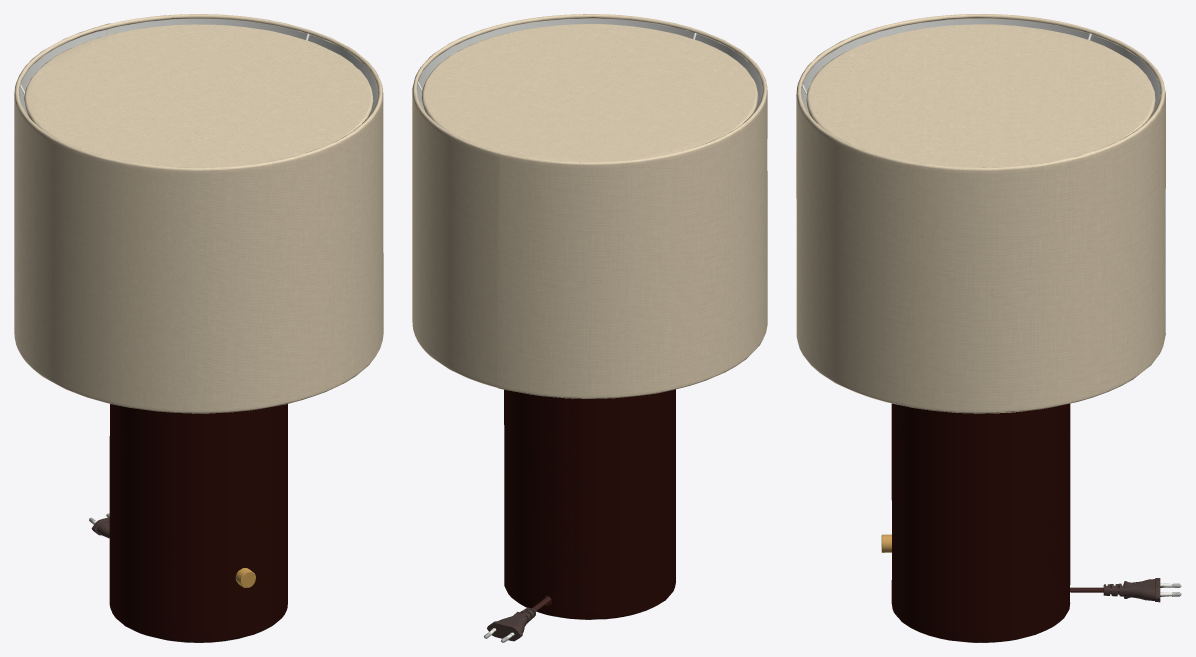
File: halgatt_lampa_stoowa_50597224.glb
3 views of the same model, side by side, from view 1: azimuth 30°, elevation 25°; view 2: azimuth 150°, elevation 25°; view 3: azimuth 270°, elevation 25° (orthographic). The views are drawn at different scales.
Visible parts, largest first — view 1: halgatt_lampa_stoowa_50597224; view 2: halgatt_lampa_stoowa_50597224; view 3: halgatt_lampa_stoowa_50597224.
Boxes of the visible parts, x1,y1,x2,y2 form: halgatt_lampa_stoowa_50597224: (14,14,383,642); halgatt_lampa_stoowa_50597224: (412,14,767,642); halgatt_lampa_stoowa_50597224: (796,14,1181,642).
Bounding box in the file's own units: 0.3211 × 0.4955 × 0.3348.
1 material, 1 textured.
